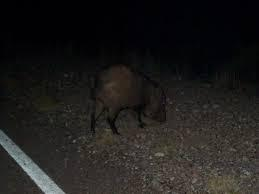javelina: (86, 61, 173, 141)
